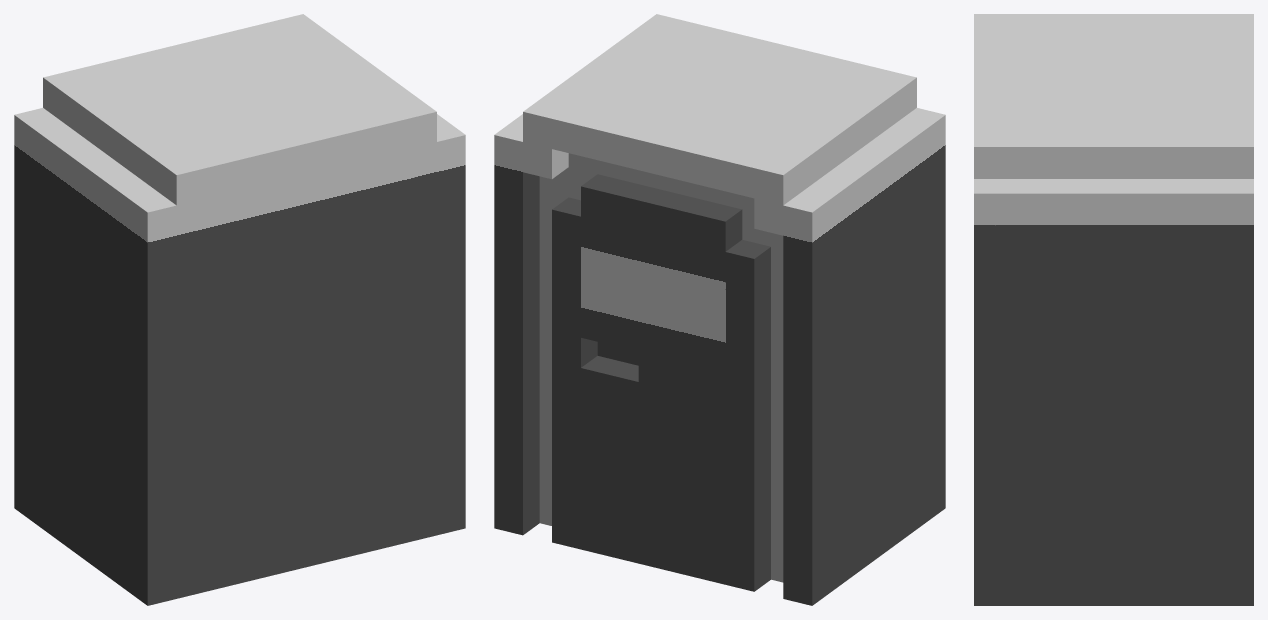
File: obj_potty3.fbx
3 views of the same model, side by side, from view 1: azimuth 30°, elevation 25°; view 2: azimuth 150°, elevation 25°; view 3: azimuth 270°, elevation 25° (orthographic). The views are drawn at different scales.
Parts seen in each view (by area): view 1: obj_potty3; view 2: obj_potty3; view 3: obj_potty3.
Part boxes in pixels (box(x1,y1,x2,y2)): obj_potty3: box(14, 14, 465, 605); obj_potty3: box(494, 14, 945, 605); obj_potty3: box(974, 14, 1253, 605).
Size of the model in its own units: 1.1 by 0.8 by 1.4.
Materials: 1 (1 with a texture image).
